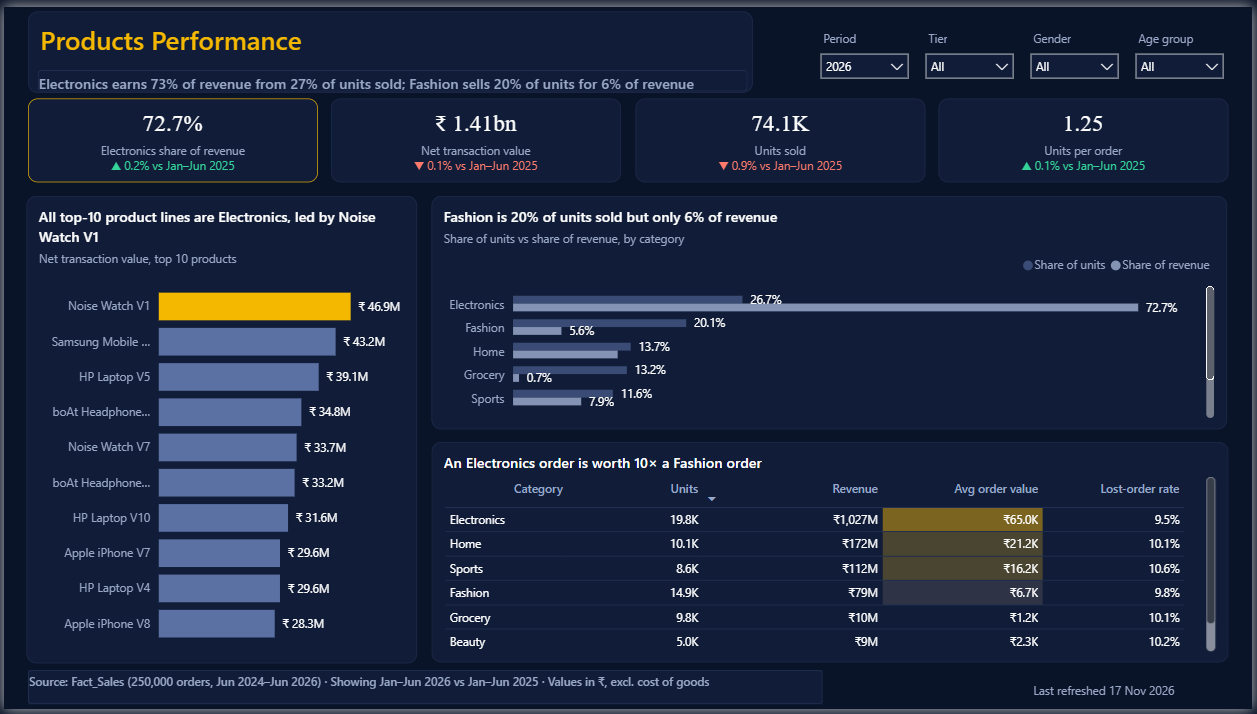

This screenshot's page, from the dashboard's own definition file:
{"tool":"powerbi","page":{"name":"Growth Opportunities","canvas":[1280,720],"ordinal":5},"visuals":[{"type":"clusteredColumnChart","title":"Commercial Value: One-Time vs Repeat Customers","fields":{"Category":["Customer_Behavior.Customer Type"],"Y":["_Measure.Customer Type Value"]},"box":[510.9,185.9,254.7,371.9],"z":0},{"type":"slicer","fields":{"Values":["Dim_Date.Year"]},"box":[952,10.7,173.3,65.3],"z":1000},{"type":"scatterChart","title":"Category Growth Opportunity: Value vs Volume","fields":{"X":["_Measure.Units Sold"],"Y":["_Measure.Net Transaction Value"],"Size":["_Measure.Total Orders"],"Series":["Dim_Products.category"]},"box":[770,186,503.4,372],"z":2000},{"type":"scatterChart","title":"Customer Segment Opportunity: Scale vs Value","fields":{"X":["_Measure.Total Customers"],"Y":["_Measure.Value per Customer"],"Series":["Dim_Customers.customer_tier"],"Size":["_Measure.Net Transaction Value"]},"box":[5,435,501.7,280],"z":3000},{"type":"clusteredBarChart","title":"Customer Value by Age Group","fields":{"Y":["_Measure.Net Transaction Value"],"Category":["Dim_Customers.age_group"]},"box":[4.8,186,501.9,244.9],"z":4000},{"type":"pivotTable","title":"Customer Segment Growth Signals","fields":{"Rows":["Dim_Customers.customer_tier"],"Values":["_Measure.Total Customers","_Measure.Net Transaction Value","_Measure.Value per Customer","_Measure.Orders per Customer","_Measure.Repeat Customer Rate"]},"box":[511.1,563.1,762,152],"z":5000},{"type":"cardVisual","fields":{"Data":["_Measure.Net Transaction Value","_Measure.Repeat Customer Rate","_Measure.Value per Customer","_Measure.Average Order Value"]},"box":[4.8,86.5,1268.6,95.2],"z":6000},{"type":"textbox","box":[23.3,14,604.8,65.1],"z":7000}]}

Visuals, with their boxes in screenshot pixels (x1, y1, x2, y2), scaled from the page's 1280x720 canvas onto the 1257x714 screenshot:
"Commercial Value: One-Time vs Repeat Customers" clusteredColumnChart: (502, 184, 752, 553)
slicer - Dim_Date.Year: (935, 11, 1105, 75)
"Category Growth Opportunity: Value vs Volume" scatterChart: (756, 184, 1251, 553)
"Customer Segment Opportunity: Scale vs Value" scatterChart: (5, 431, 498, 709)
"Customer Value by Age Group" clusteredBarChart: (5, 184, 498, 427)
"Customer Segment Growth Signals" pivotTable: (502, 558, 1250, 709)
cardVisual - _Measure.Net Transaction Value x _Measure.Repeat Customer Rate: (5, 86, 1251, 180)
textbox: (23, 14, 617, 78)
